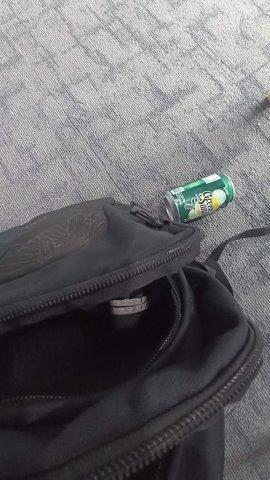kaleng: (163, 174, 235, 223)
